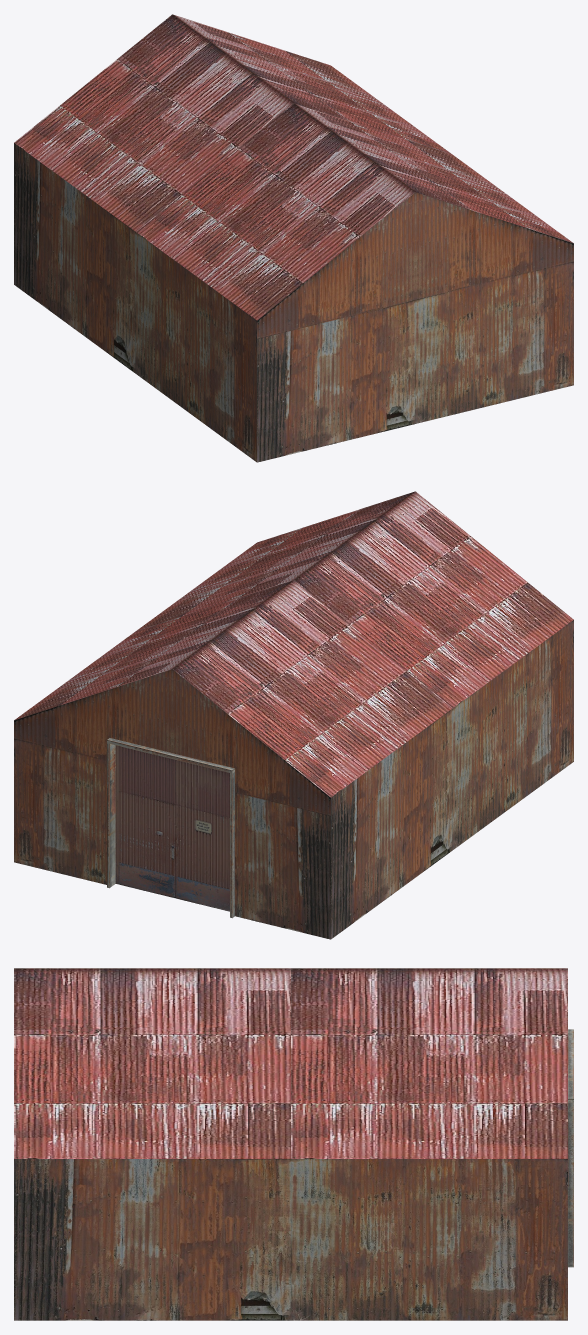
File: Hangar_v1_full (2).glb
3 renders of one model, top to bottom at view 1: azimuth 30°, elevation 25°; view 2: azimuth 150°, elevation 25°; view 3: azimuth 270°, elevation 25°, orthographic. The views are drawn at different scales.
Visible parts, largest first — view 1: Hangar_v1_full (2); view 2: Hangar_v1_full (2); view 3: Hangar_v1_full (2).
Part boxes in pixels (left/top/right/bottom): Hangar_v1_full (2): left=14, top=14, right=573, bottom=462; Hangar_v1_full (2): left=14, top=491, right=573, bottom=939; Hangar_v1_full (2): left=14, top=968, right=573, bottom=1320.
Size of the model in its own units: 7.2 by 5.03 by 9.67.
Materials: 1 (1 with a texture image).
